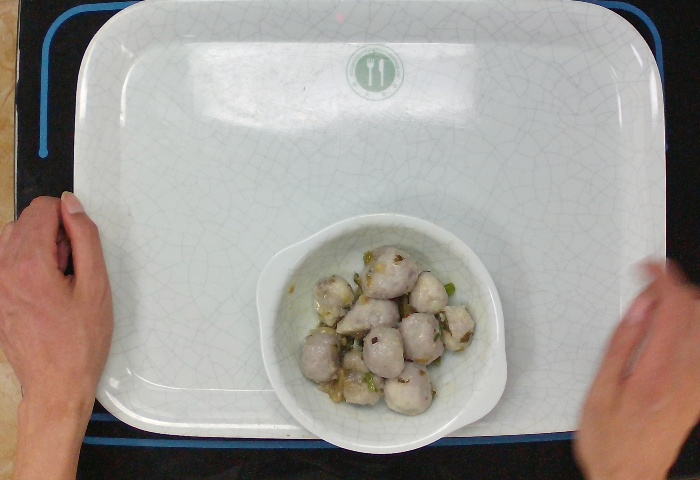JYsf-Shuang_Er_Wan: (251, 214, 516, 456)
